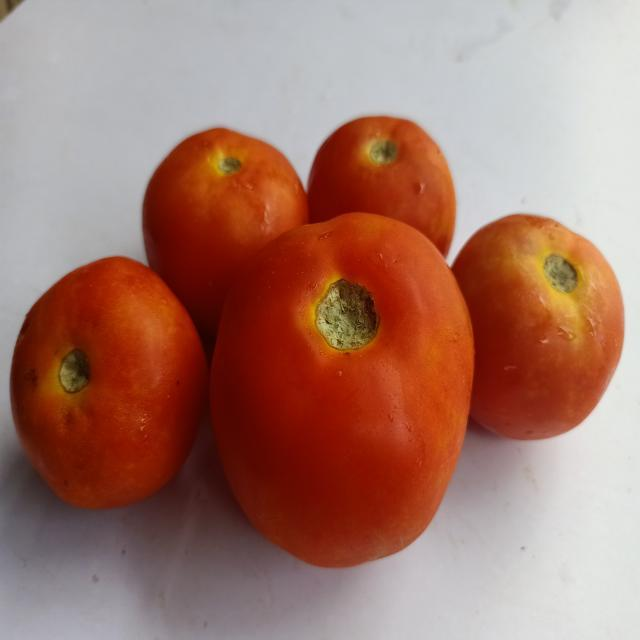Tomato: (208, 215, 477, 573), (4, 248, 208, 516), (454, 207, 636, 452), (139, 127, 310, 329), (311, 108, 459, 261)
